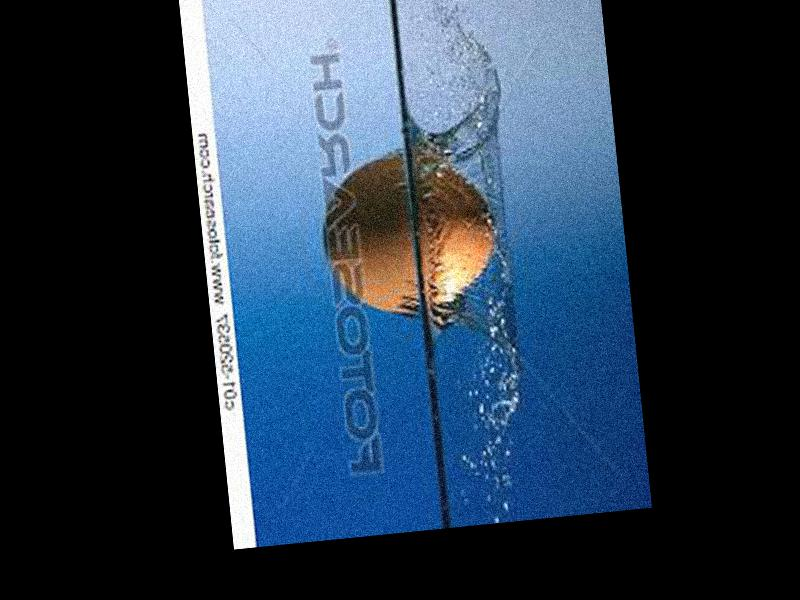Eggs: (318, 146, 503, 319)
